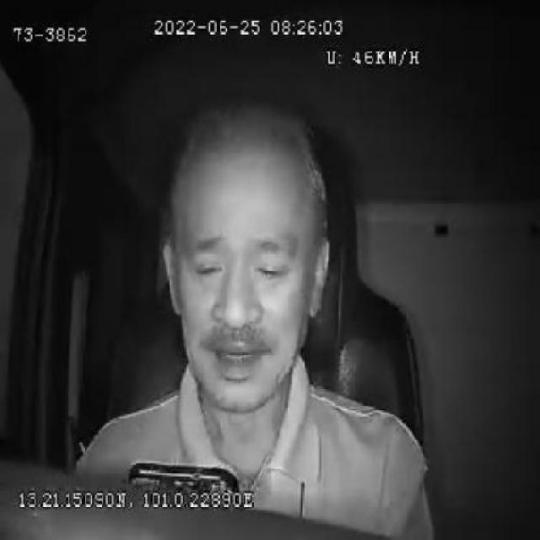phone: (118, 448, 253, 495)
